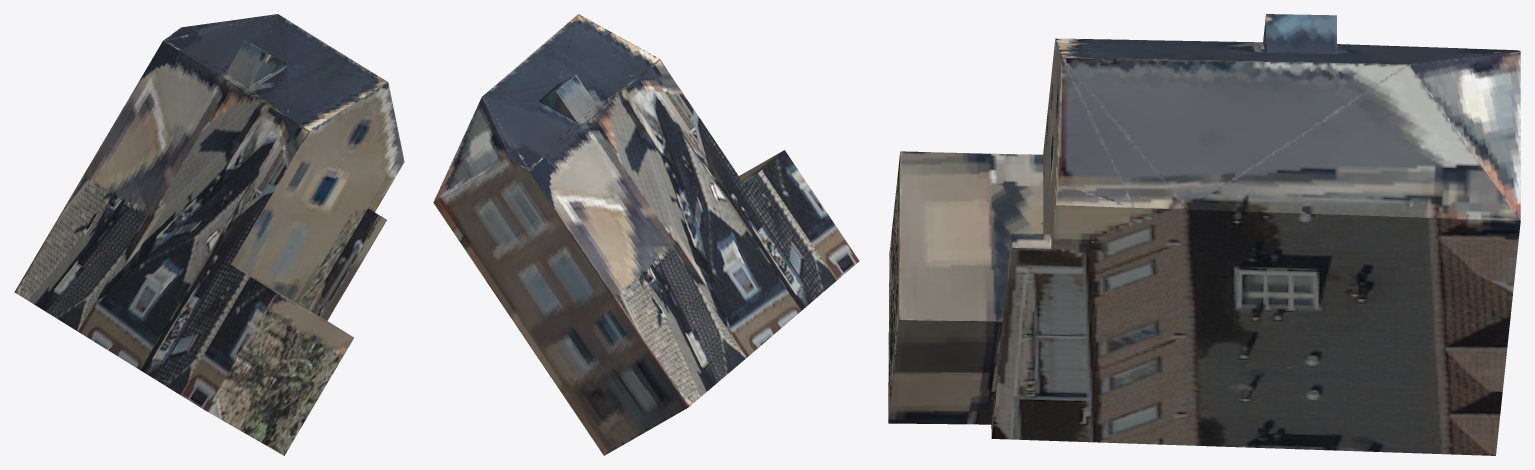
The picture shows the model from 3 angles, left to right: view 1: azimuth 30°, elevation 25°; view 2: azimuth 150°, elevation 25°; view 3: azimuth 270°, elevation 25°; orthographic projection. The views are drawn at different scales.
Parts seen in each view (by area): view 1: BAG_0599100000760417 (×4); view 2: BAG_0599100000760417 (×4); view 3: BAG_0599100000760417 (×6).
Part boxes in pixels (box(x1,y1,x2,y2)): BAG_0599100000760417 (×4): box(14, 14, 404, 455); BAG_0599100000760417 (×4): box(433, 14, 859, 455); BAG_0599100000760417 (×6): box(888, 14, 1520, 455).
Size of the model in its own units: 12.12 by 14.26 by 15.57.
Materials: 7 (6 with a texture image).
